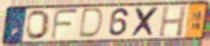6: (108, 7, 130, 39)
D: (77, 7, 106, 40)
F: (49, 8, 80, 41)
H: (157, 5, 188, 38)
O: (24, 9, 52, 41)
X: (130, 6, 161, 38)
